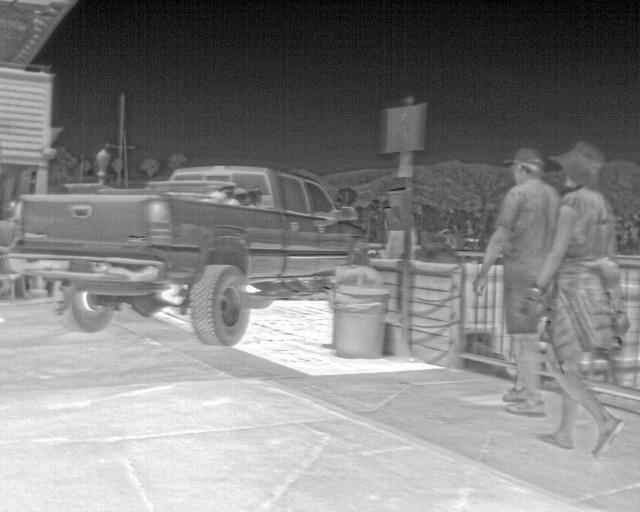bicycle: (9, 162, 366, 347)
empty: (532, 139, 628, 455), (469, 148, 563, 421)
